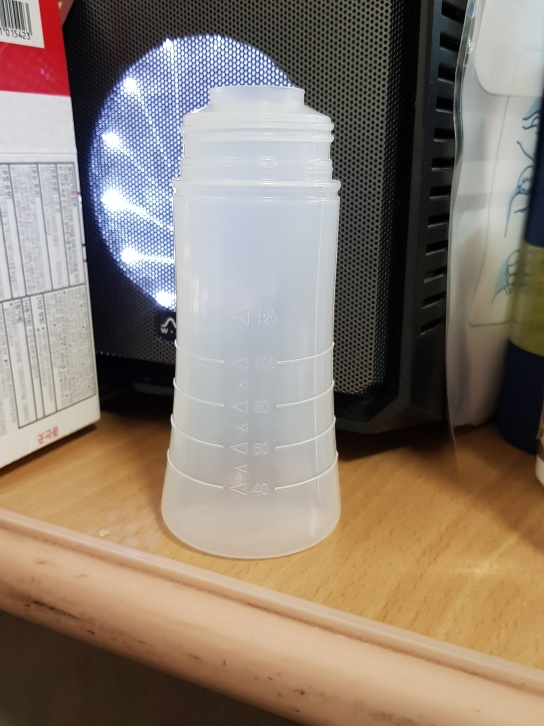Plastic: (163, 83, 344, 561)
